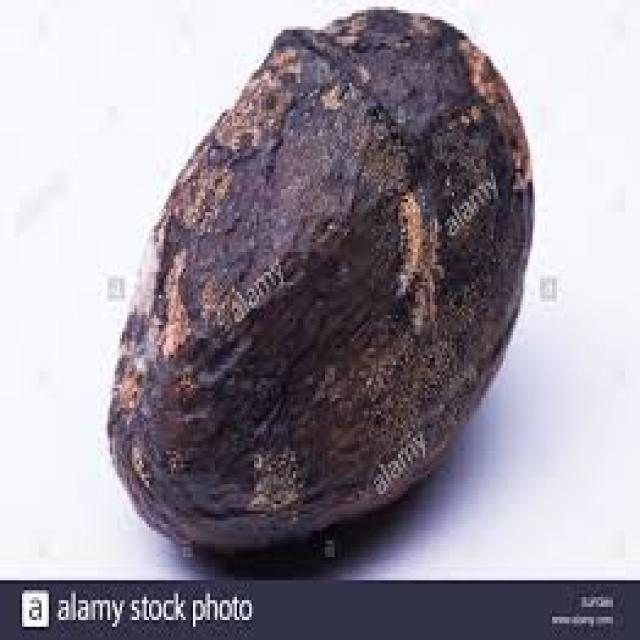organic waste: (105, 3, 533, 547)
